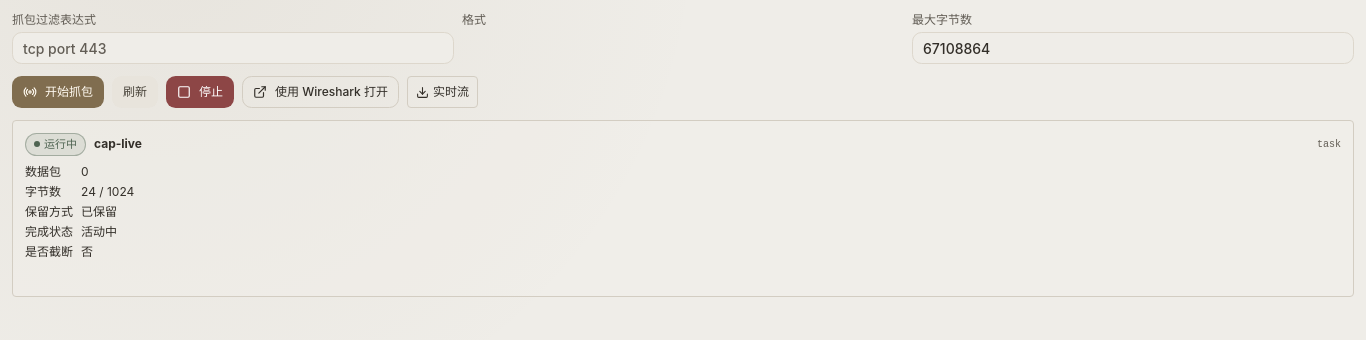
Test: CapturePanel › opens an active capture through the local Wireshark helper
Click the button titled "在本机 Wireshark 中打开实时流" at [320, 92], box [242,76,399,108]
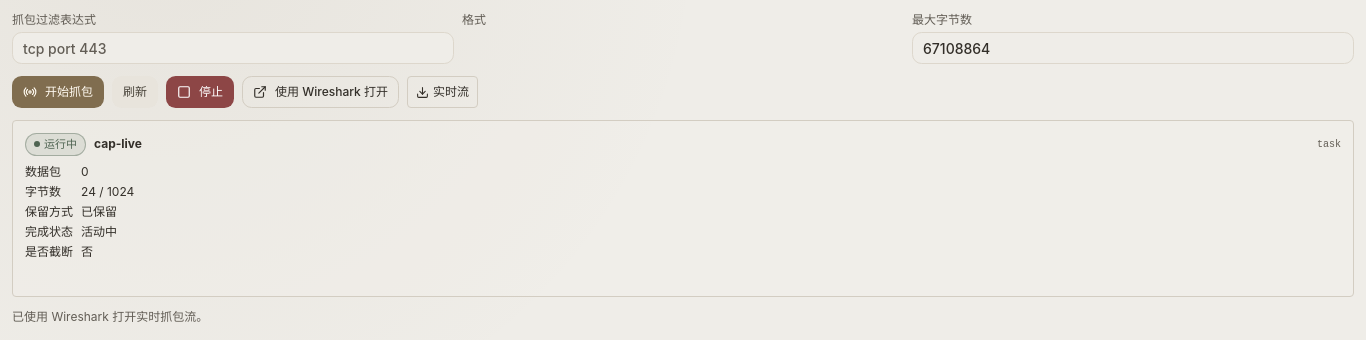
Now the text "已使用 Wireshark 打开实时抓包流。" is shown, box [12,308,208,324]
